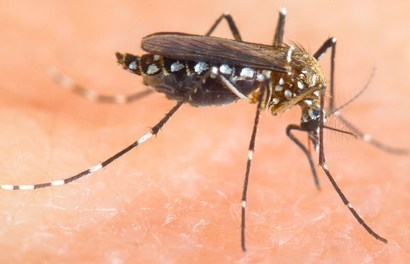dengue_mosquito: (46, 8, 371, 230)
